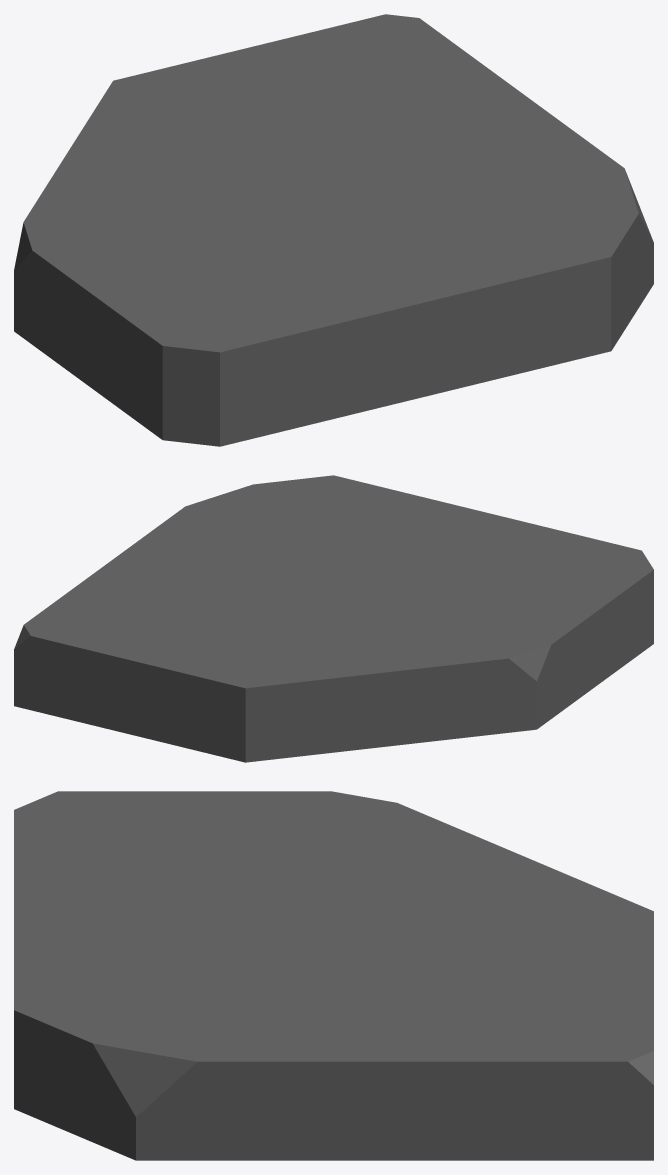
File: Tile_05.fbx
3 views of the same model, one above another, from view 1: azimuth 30°, elevation 25°; view 2: azimuth 150°, elevation 25°; view 3: azimuth 270°, elevation 25° (orthographic). The views are drawn at different scales.
Visible parts, largest first — view 1: Tile_05_LOD0; view 2: Tile_05_LOD0; view 3: Tile_05_LOD0.
Part boxes in pixels (left/top/right/bottom): Tile_05_LOD0: left=14, top=14, right=653, bottom=446; Tile_05_LOD0: left=14, top=475, right=653, bottom=762; Tile_05_LOD0: left=14, top=791, right=653, bottom=1160.
Size of what is drawn, in the model's own units: 0.2293 by 0.0391 by 0.2293.
